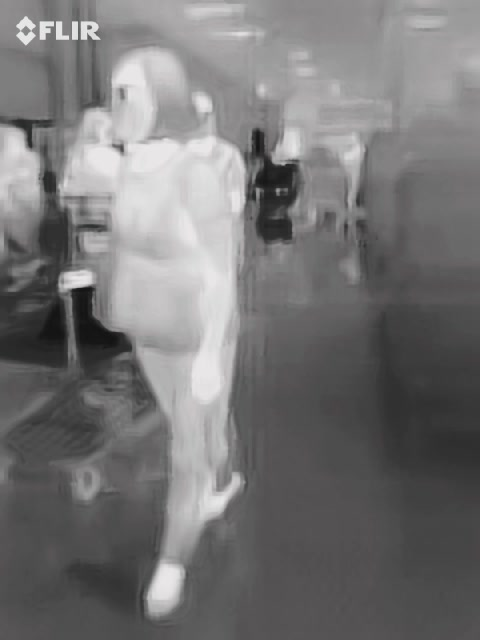head: (110, 46, 188, 143)
